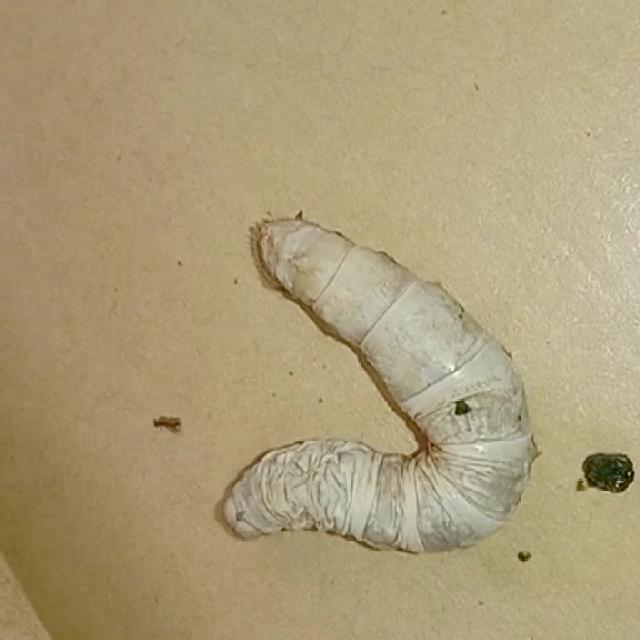Grasserie: (194, 199, 559, 560)
